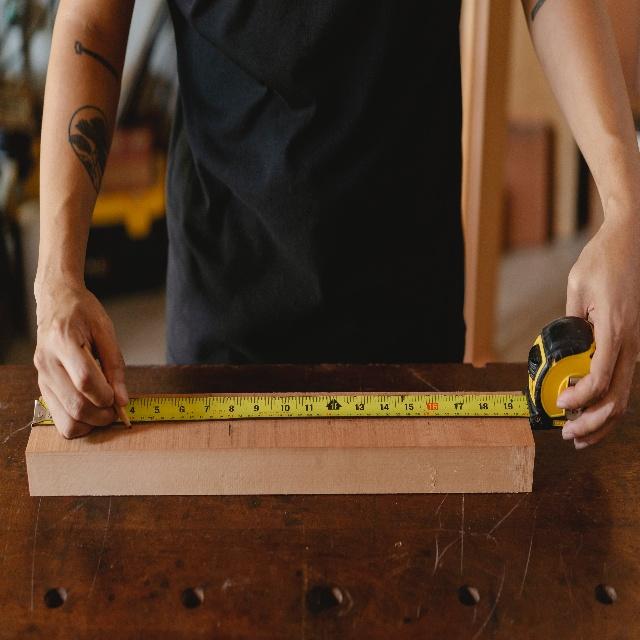Sin_guantes: (557, 215, 640, 451), (34, 283, 129, 440)
